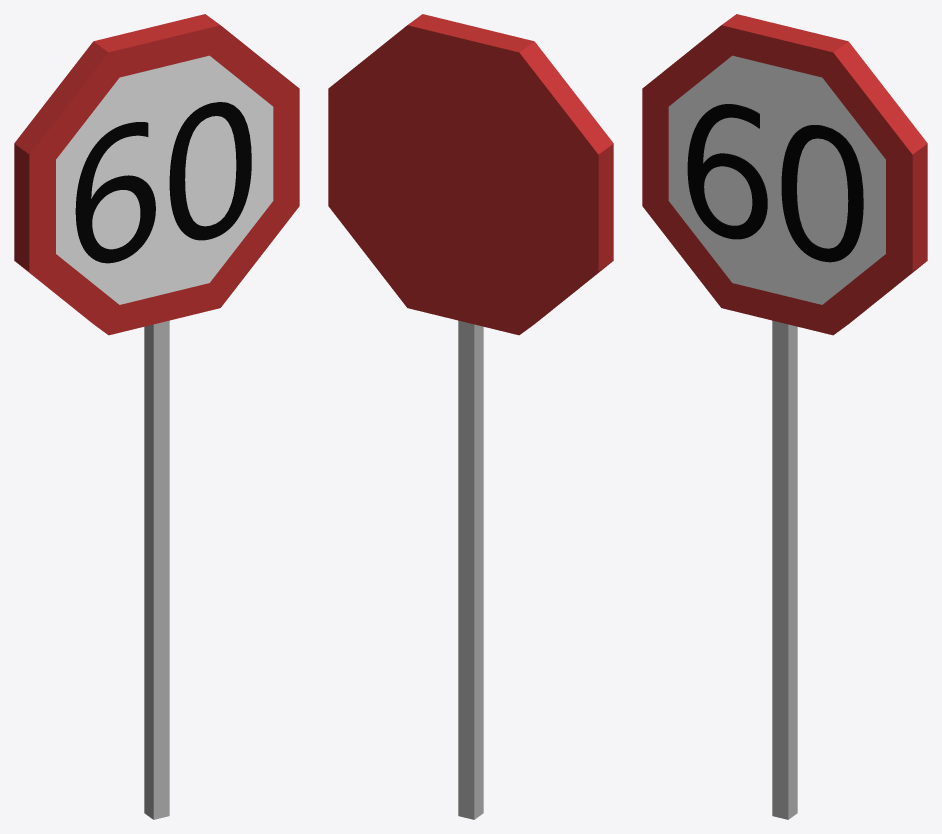
File: 60_speed_sign.fbx
The picture shows the model from 3 angles, left to right: view 1: azimuth 30°, elevation 25°; view 2: azimuth 150°, elevation 25°; view 3: azimuth 330°, elevation 25°; orthographic projection.
Parts seen in each view (by area): view 1: 60_speed_sign; view 2: 60_speed_sign; view 3: 60_speed_sign.
Boxes of the visible parts, left/top/right/bottom form: 60_speed_sign: left=14, top=14, right=299, bottom=819; 60_speed_sign: left=328, top=14, right=613, bottom=819; 60_speed_sign: left=642, top=14, right=927, bottom=819.
Size of the model in its own units: 1.19 by 3.29 by 0.1231.
2 materials, 1 textured.
